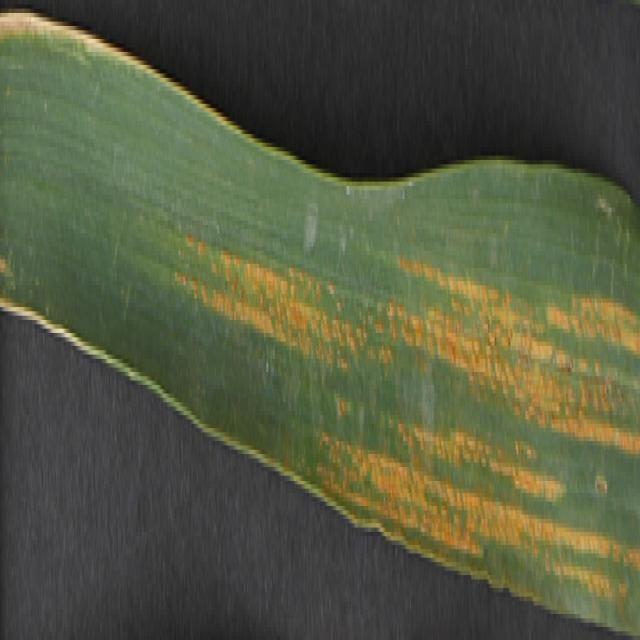leaf rust: (168, 164, 640, 597)
